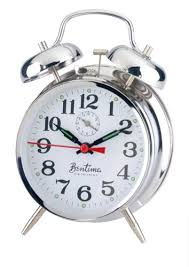alarm_clock: (15, 12, 173, 242), (21, 12, 173, 242)
